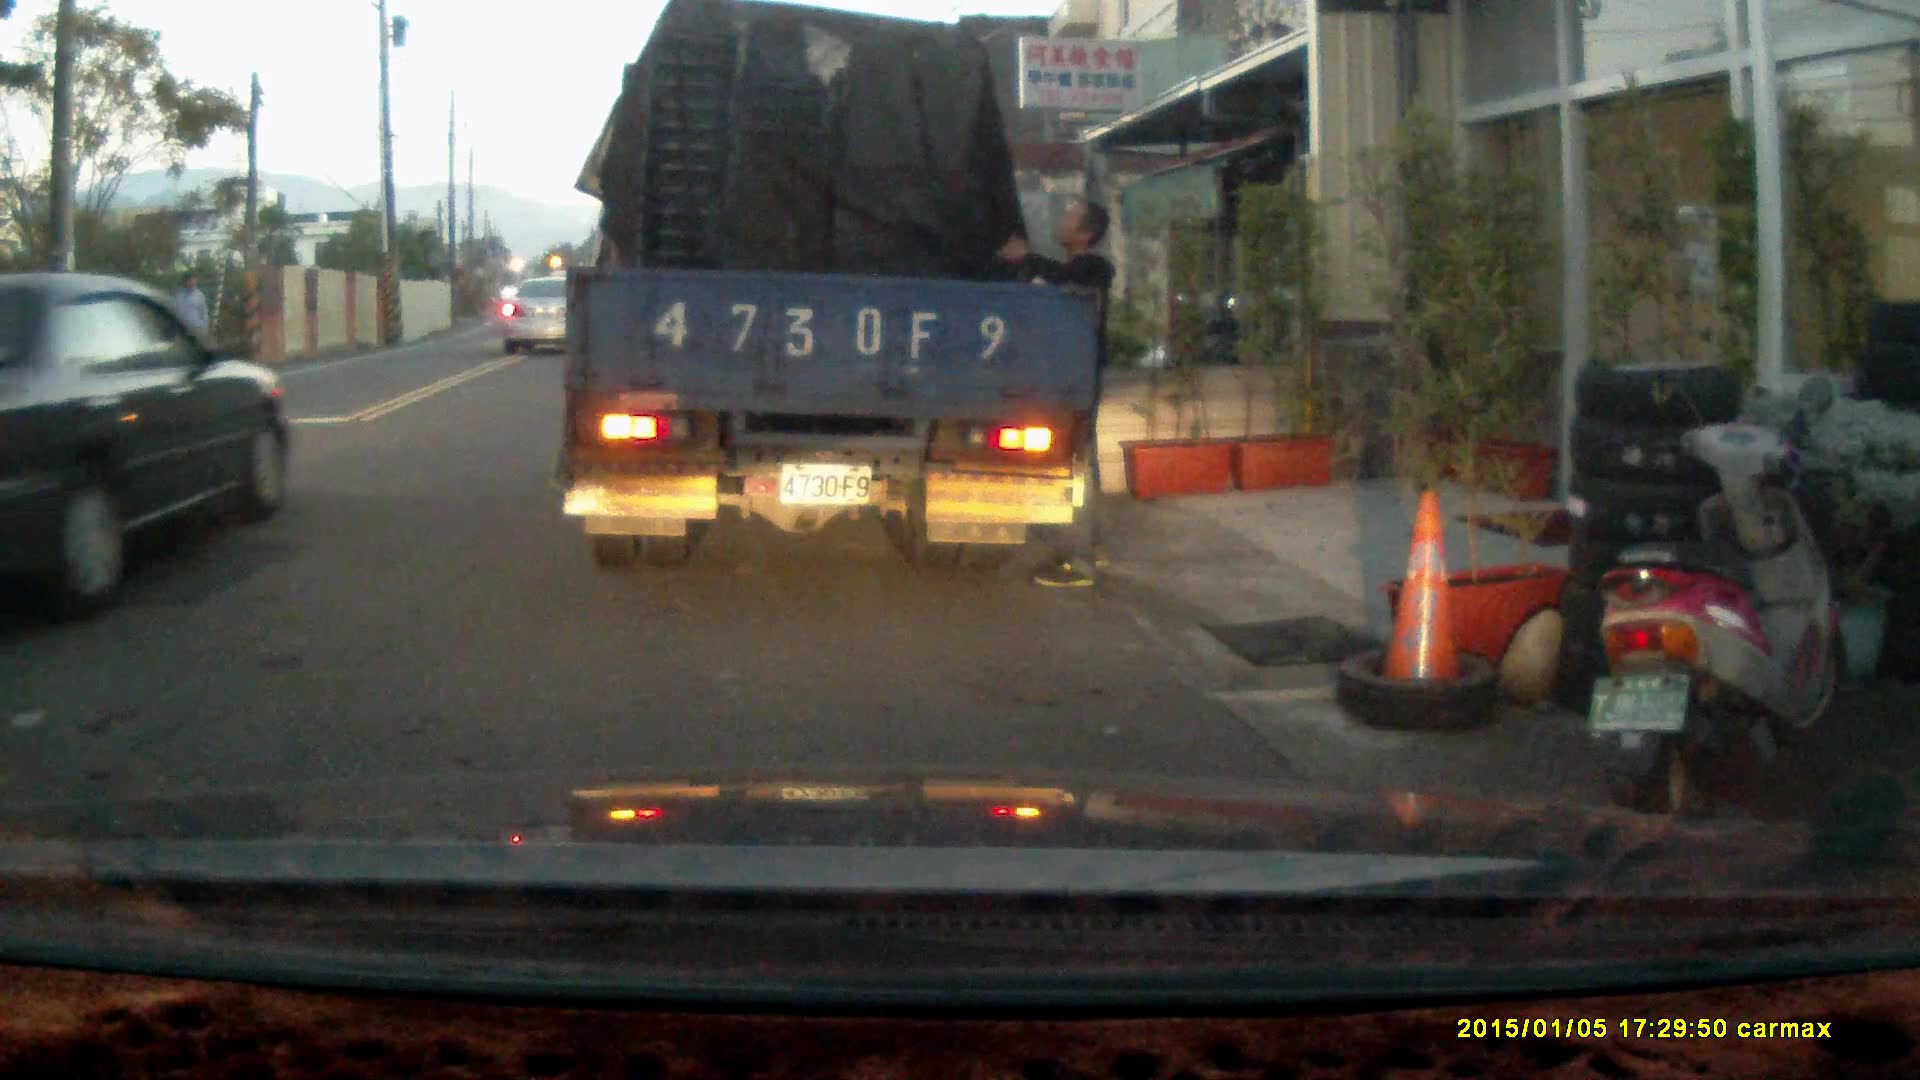pedestrian: (992, 197, 1114, 589), (164, 267, 211, 391)
vehicle: (565, 23, 1097, 572), (1, 270, 298, 635), (499, 270, 592, 354)
